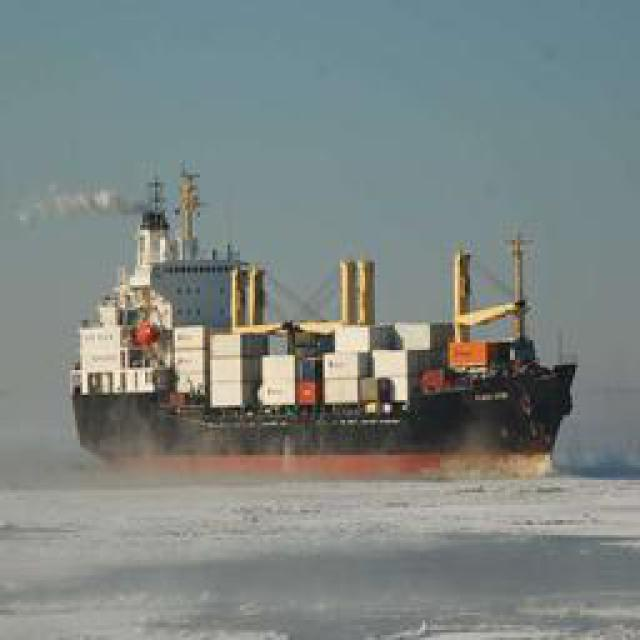Ship: (71, 197, 581, 470)
